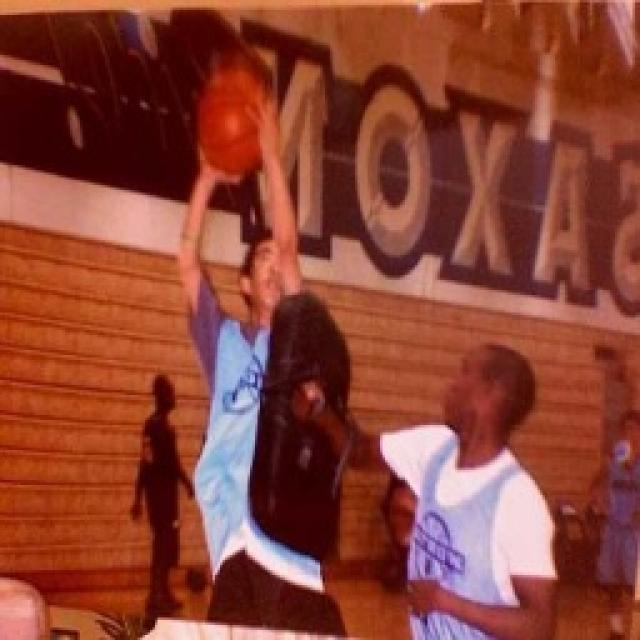rim: (195, 64, 276, 173)
